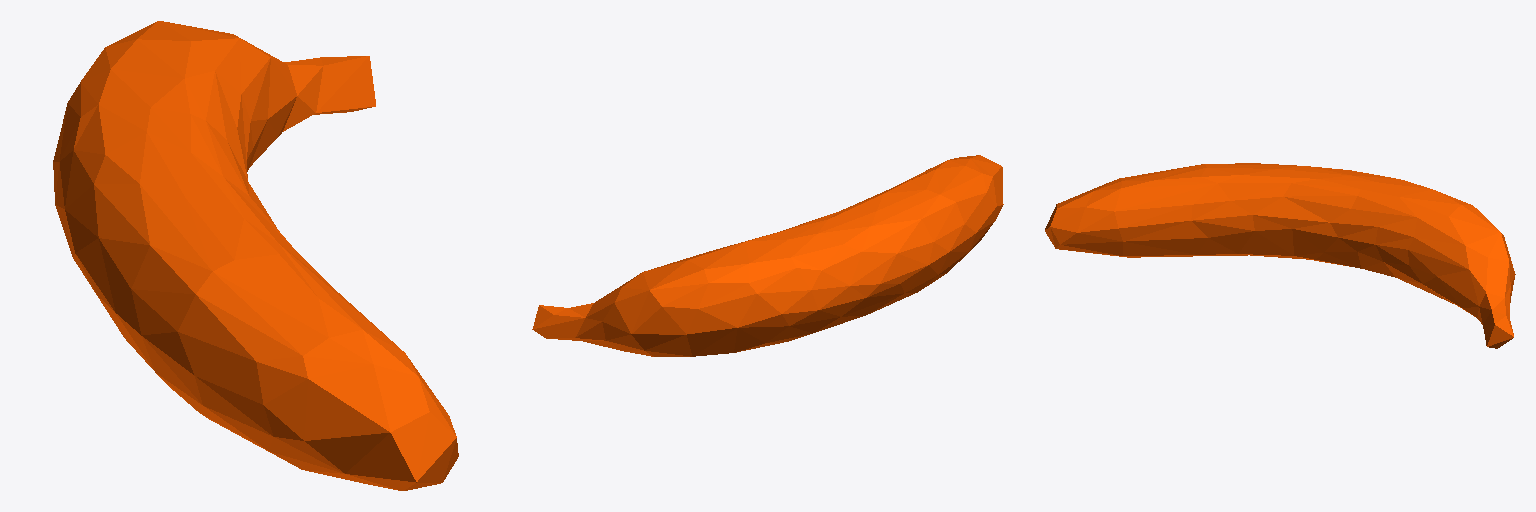
URDF robot description (011_banana):
<?xml version="1.0" ?>
<robot name="011_banana">
   <material name="obj_color">
      <color rgba="1.0 0.423529411765 0.0392156862745 1.0"/>
   </material>
   <link name="top">
      <inertial>
         <origin rpy="7.497986307447289e-05 0.00076306341254073 0.0007925403271229301" xyz="-0.002754086862299759 -0.0007551492801486505 0.0005722994341642797"/>
         <mass value="0.3260134339437008"/>
         <inertia ixx="0.0006960503850679393" ixy="-0.0002057533788075726" ixz="4.696336719079495e-06" iyy="0.000143151776468439" iyz="-3.984310768899773e-06" izz="0.0007913814412017549"/>
      </inertial>
      <visual>
         <origin rpy="0 0 0" xyz="0 0 0"/>
         <geometry>
            <mesh filename="top_watertight_tiny.stl" scale="1 1 1"/>
         </geometry>
         <material name="obj_color"/>
      </visual>
      <collision>
         <origin rpy="0 0 0" xyz="0 0 0"/>
         <geometry>
            <mesh filename="top_watertight_tiny.obj" scale="1 1 1"/>
         </geometry>
      </collision>
   </link>
   <link name="bottom">
      <inertial>
         <origin rpy="1.633333333199431e-08 1.633333333199431e-08 1.633333333362855e-08" xyz="0.3464080000000008 0.3464080000000008 0.3464080000000008"/>
         <mass value="0.0009800000000000017"/>
         <inertia ixx="1.633333333253906e-08" ixy="5.447480642029219e-19" ixz="5.447480642029219e-19" iyy="1.633333333253906e-08" iyz="5.447480642029219e-19" izz="1.633333333253906e-08"/>
      </inertial>
      <visual>
         <origin rpy="0 0 0" xyz="0 0 0"/>
         <geometry>
            <mesh filename="bottom_watertight_tiny.stl" scale="1 1 1"/>
         </geometry>
         <material name="obj_color"/>
      </visual>
   </link>
   <link name="world"/>
   <joint name="world_to_base" type="fixed">
      <origin xyz="0 0 0"/>
      <axis xyz="0 0 0"/>
      <parent link="world"/>
      <child link="bottom"/>
   </joint>
   <joint name="rotation" type="revolute">
      <origin xyz="0 0 0"/>
      <axis xyz="0 0 -1"/>
      <parent link="bottom"/>
      <child link="top"/>
      <dynamics damping="1.0" friction="1.0"/>
      <limit effort="0.1" velocity="0.1" lower="0" upper="0.001"/>
   </joint>
</robot>

--- What the picture shows (computed from the rendered views, not written in the file) ---
The picture shows the robot from 3 angles, left to right: view 1: azimuth 30°, elevation 25°; view 2: azimuth 150°, elevation 25°; view 3: azimuth 270°, elevation 25°; orthographic projection.
Model 011_banana with 3 links and 2 joints (1 revolute, 1 fixed), rooted at world, posed every joint at zero.
Visible links, largest first — view 1: top; view 2: top; view 3: top.
Link boxes in pixels (box(x1,y1,x2,y2)): top: box(53, 21, 458, 490); top: box(532, 155, 1003, 356); top: box(1045, 163, 1515, 348).
Bounding box of the posed robot: 0.1085 × 0.1786 × 0.0365 m (x, y, z).
Meshes: 2 distinct files referenced, 1 mesh visuals loaded (1 binary STL); not drawn: 1 (reference not matched to a file when rendering).
